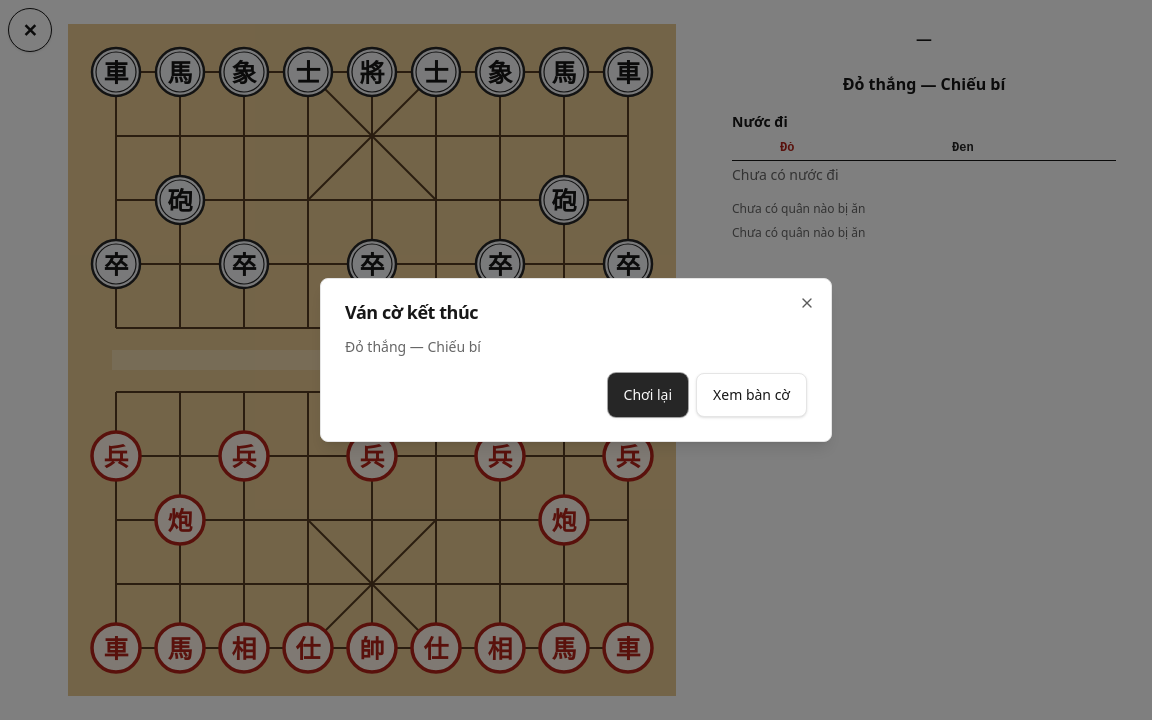
SYNC-03: /game/[id] online page › requests a rematch and navigates once the room reports a new game
Click the button "Chơi lại": x=648, y=395 [608, 373, 688, 417]
Wait 2000 ms
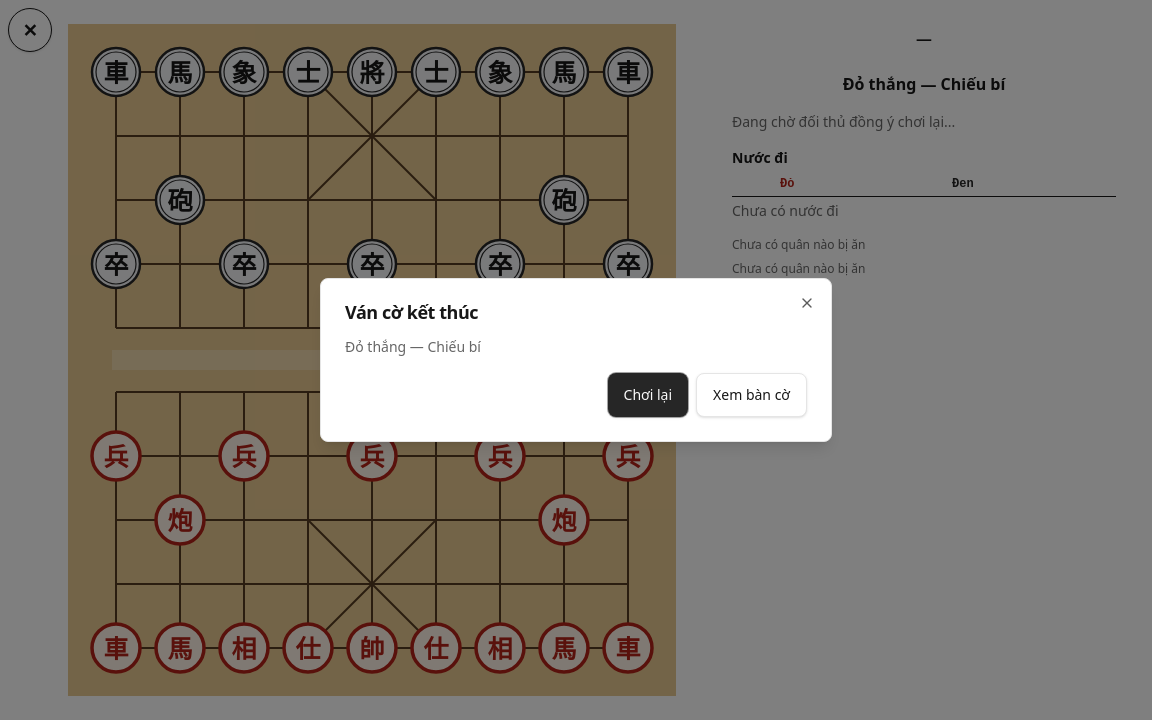
Expected: the text "Đang chờ đối thủ đồng ý chơi lại..." is shown, [732, 112, 955, 131]
